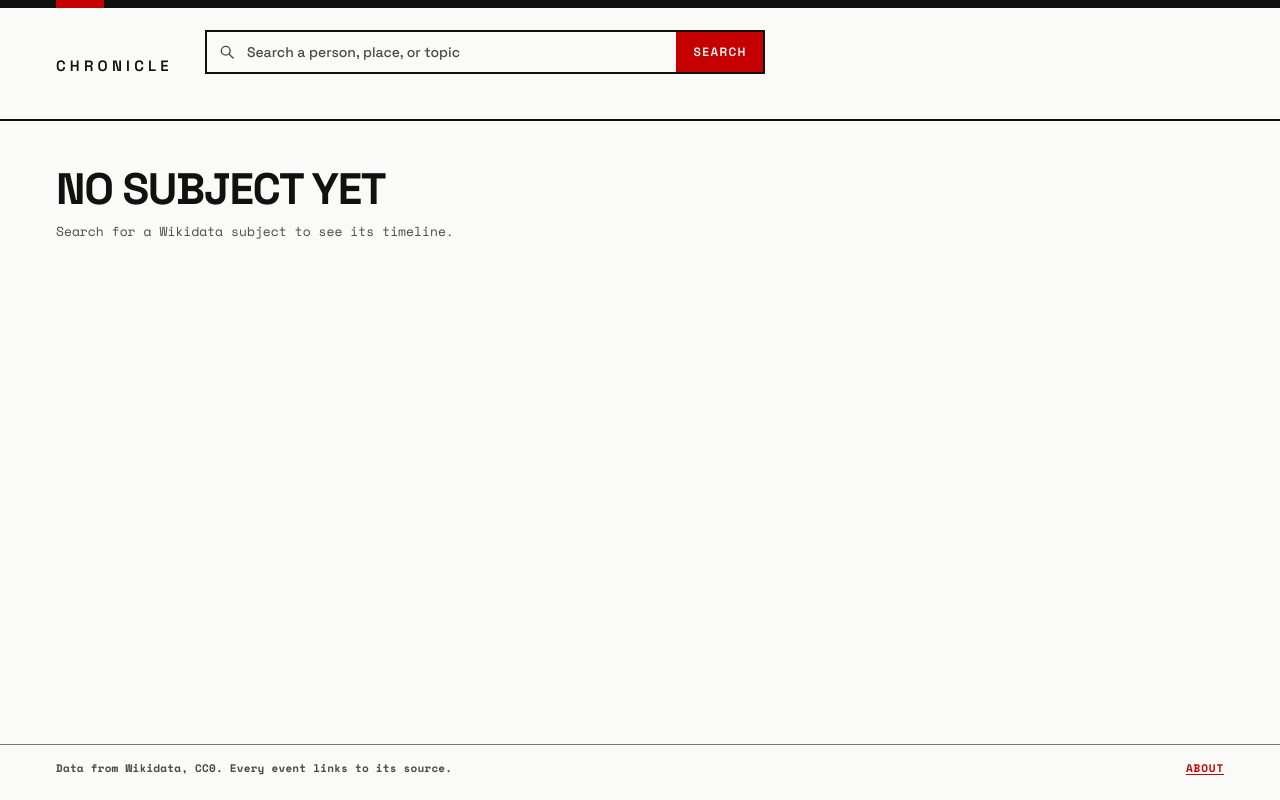
App › shows a no-match message and leaves the empty state in place
Type "zzqqxx" into the dropdown named "Subject". click: (455, 52)
box: x1=235 y1=42 x2=676 y2=61
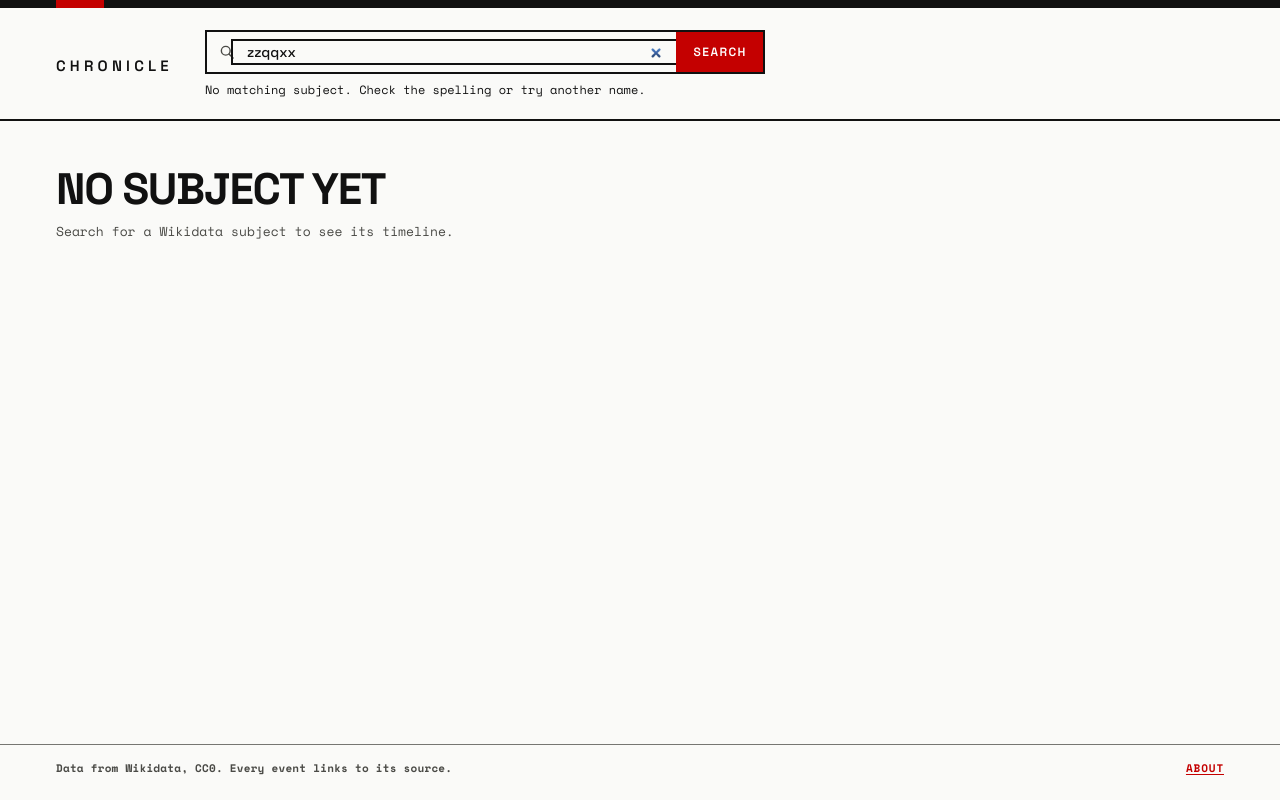
Check: the text "Search for a Wikidata subject to see its timeline." is shown, box x1=56 y1=221 x2=454 y2=241
Check: the text "No matching subject. Check the spelling or try another name." is shown, box x1=205 y1=81 x2=646 y2=98
